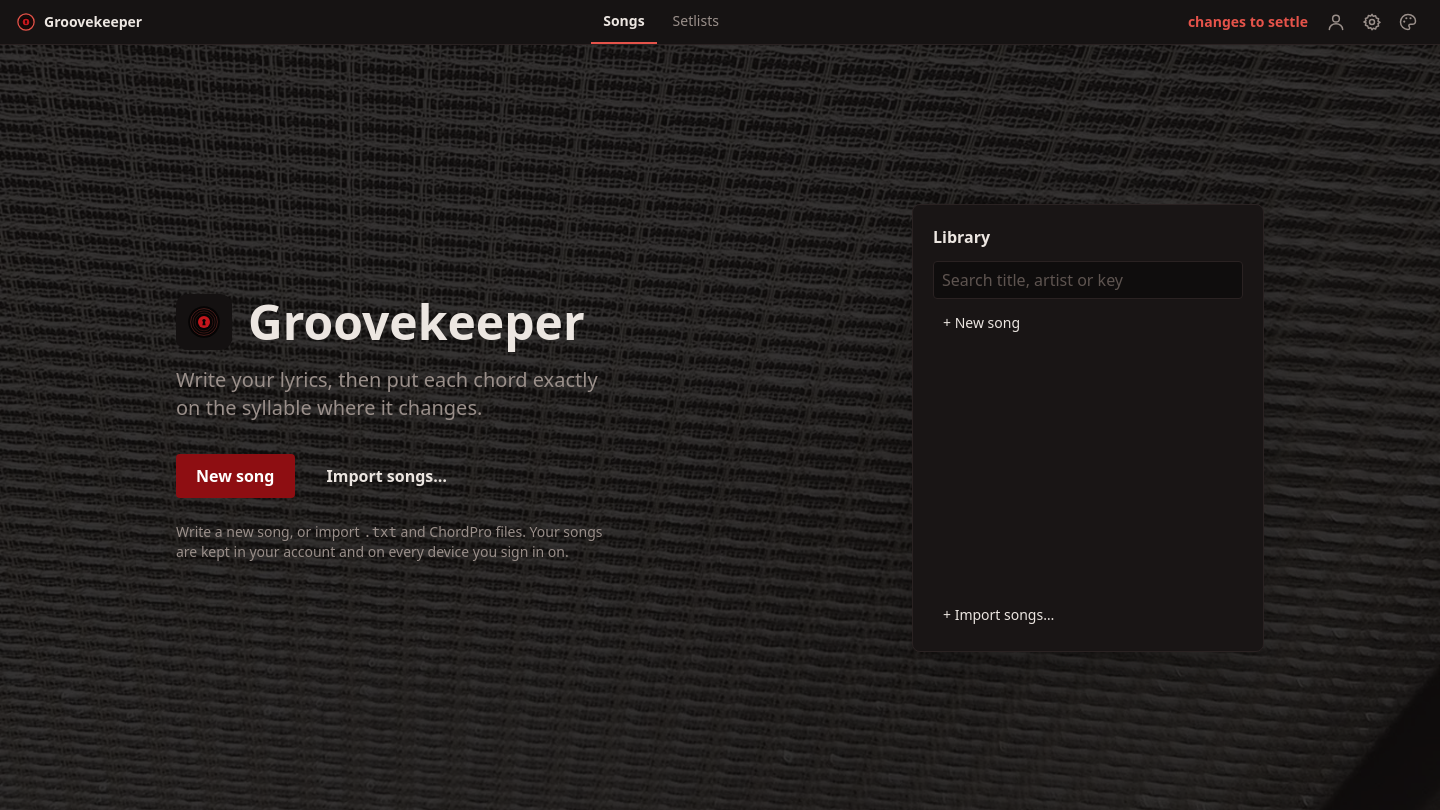
the account menu › shows the account and how syncing stands, and opens Settings
Click the button named "Account: me@example.com" at (1336, 22), box [1320,6,1352,38]
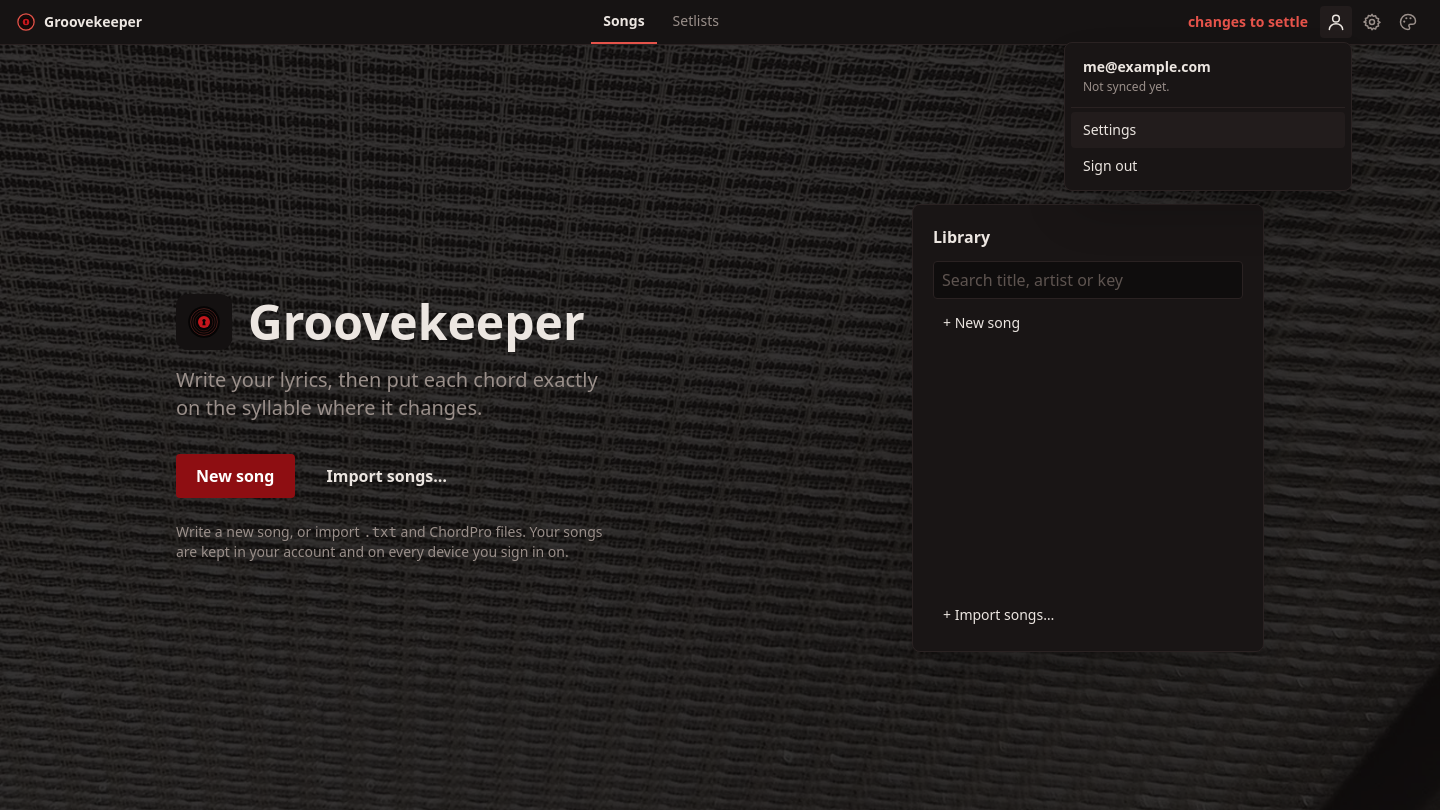
Check: the text "me@example.com" is shown, box [1083,57,1211,76]
Check: the text "Not synced yet." is shown, box [1083,78,1170,95]
Press Arrowdown
Press Arrowup Enter
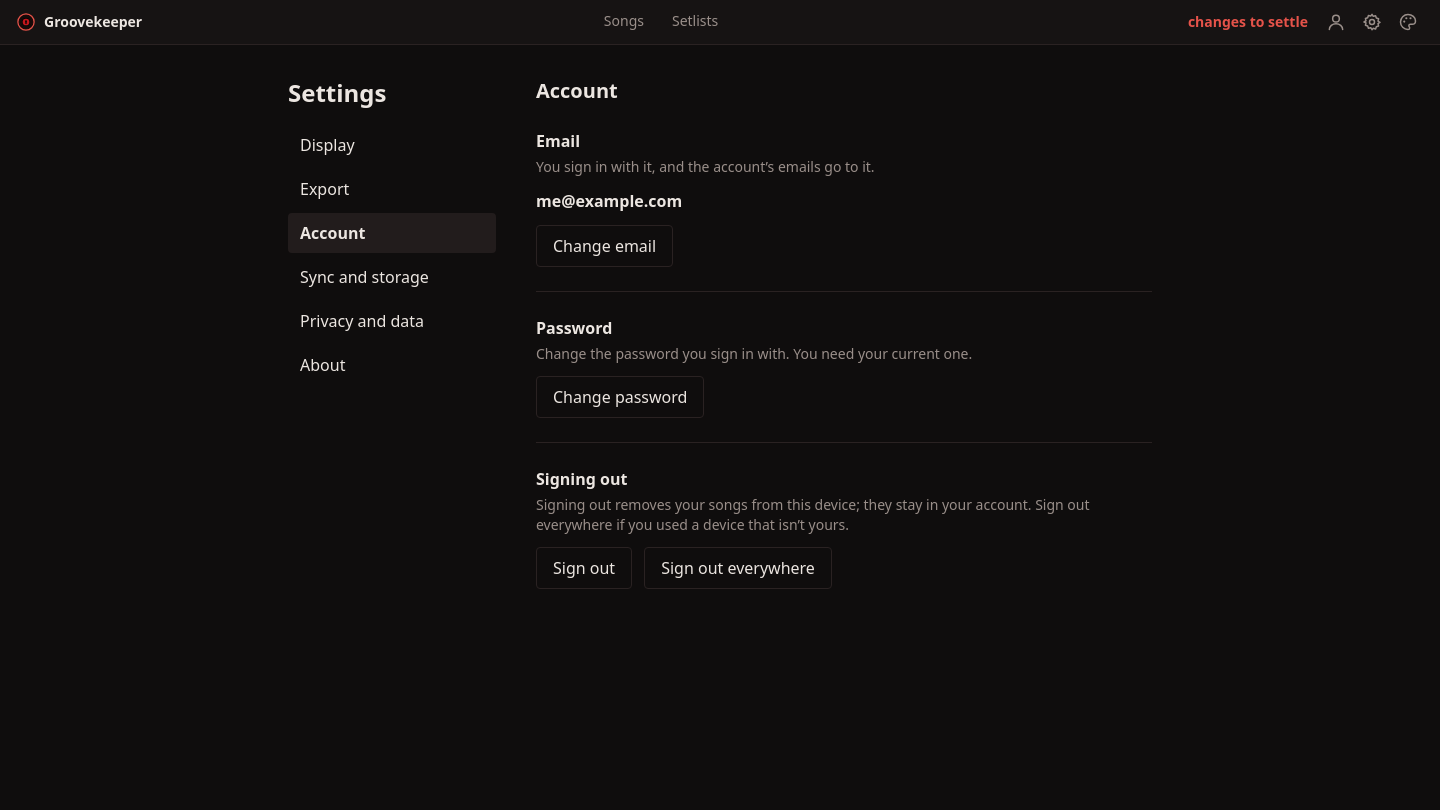
Check: the heading "Account" is shown, box [536,77,618,104]
